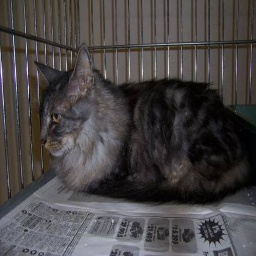cat: (24, 41, 256, 209)
